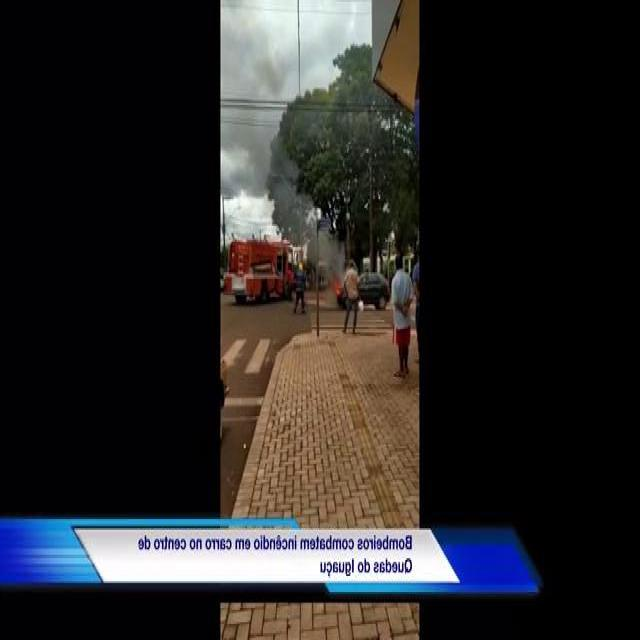Smoke: (228, 24, 284, 209), (286, 172, 341, 250)
